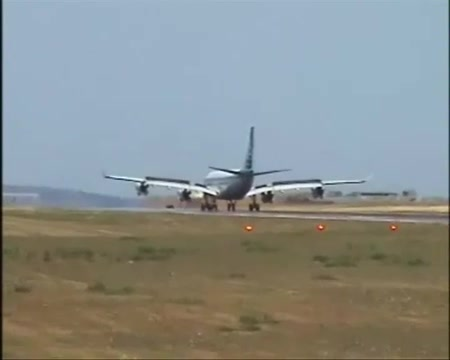aeroplane: (107, 126, 368, 214)
